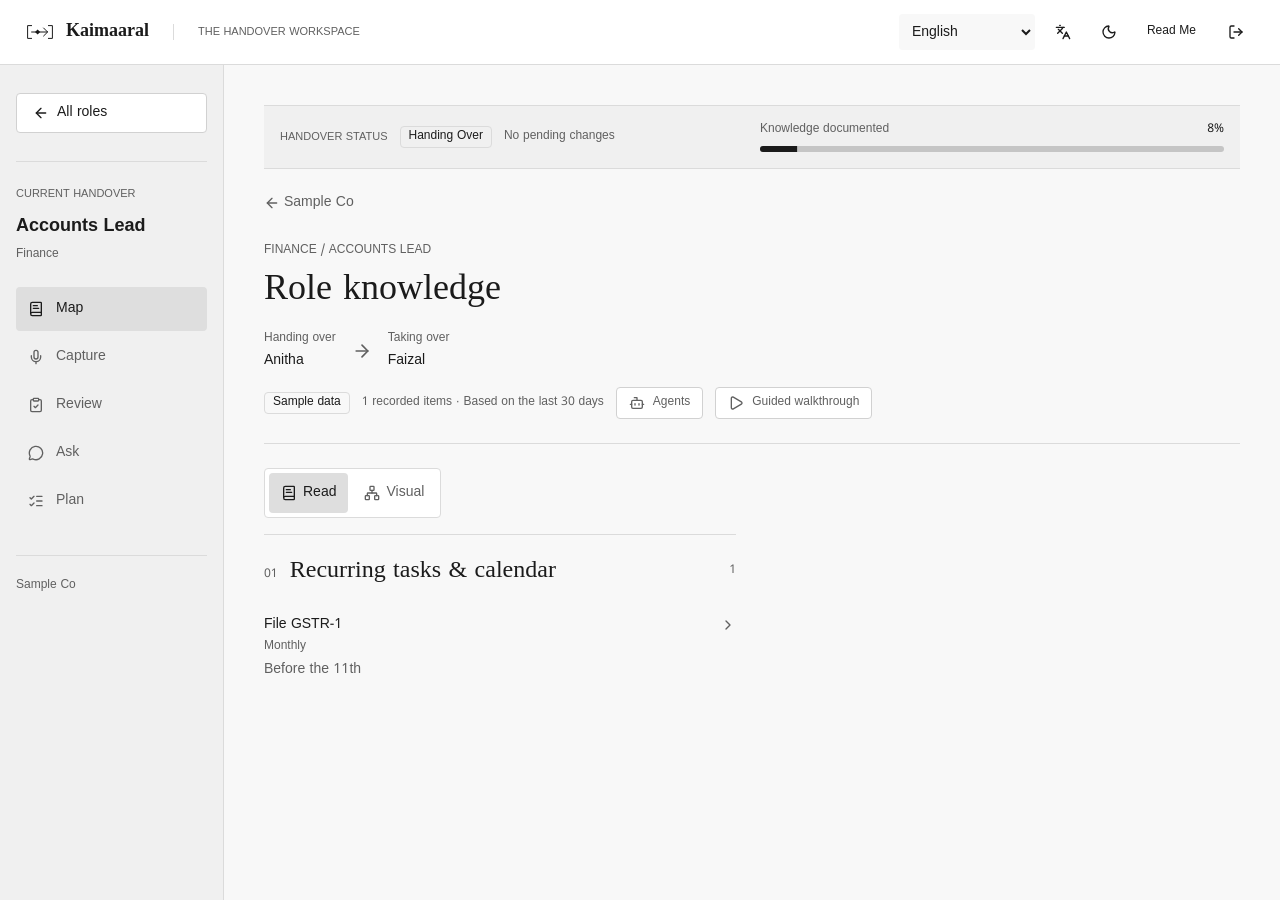
Test: Role page tabs › walkthrough supports previous, skip, replay and Escape without retaining a step
The width and height of the screenshot is (1280, 900).
Step 1. Click the button "Guided walkthrough" → click(794, 403), box [715,387,872,419]
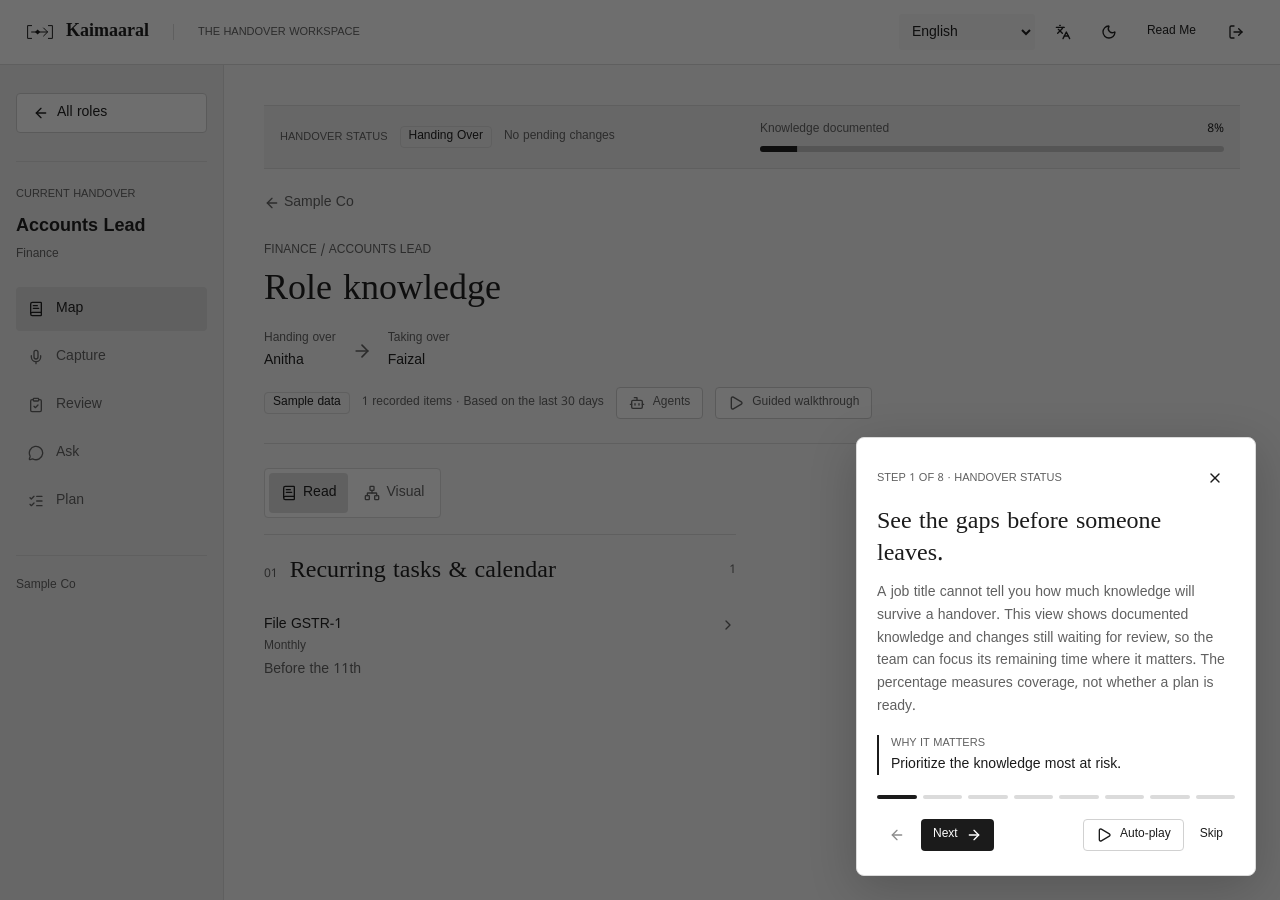
Check: the button named "Previous step" is disabled, box [877,815,917,855]
Step 2. Click the button "Next" → click(957, 835), box [921,819,994,851]
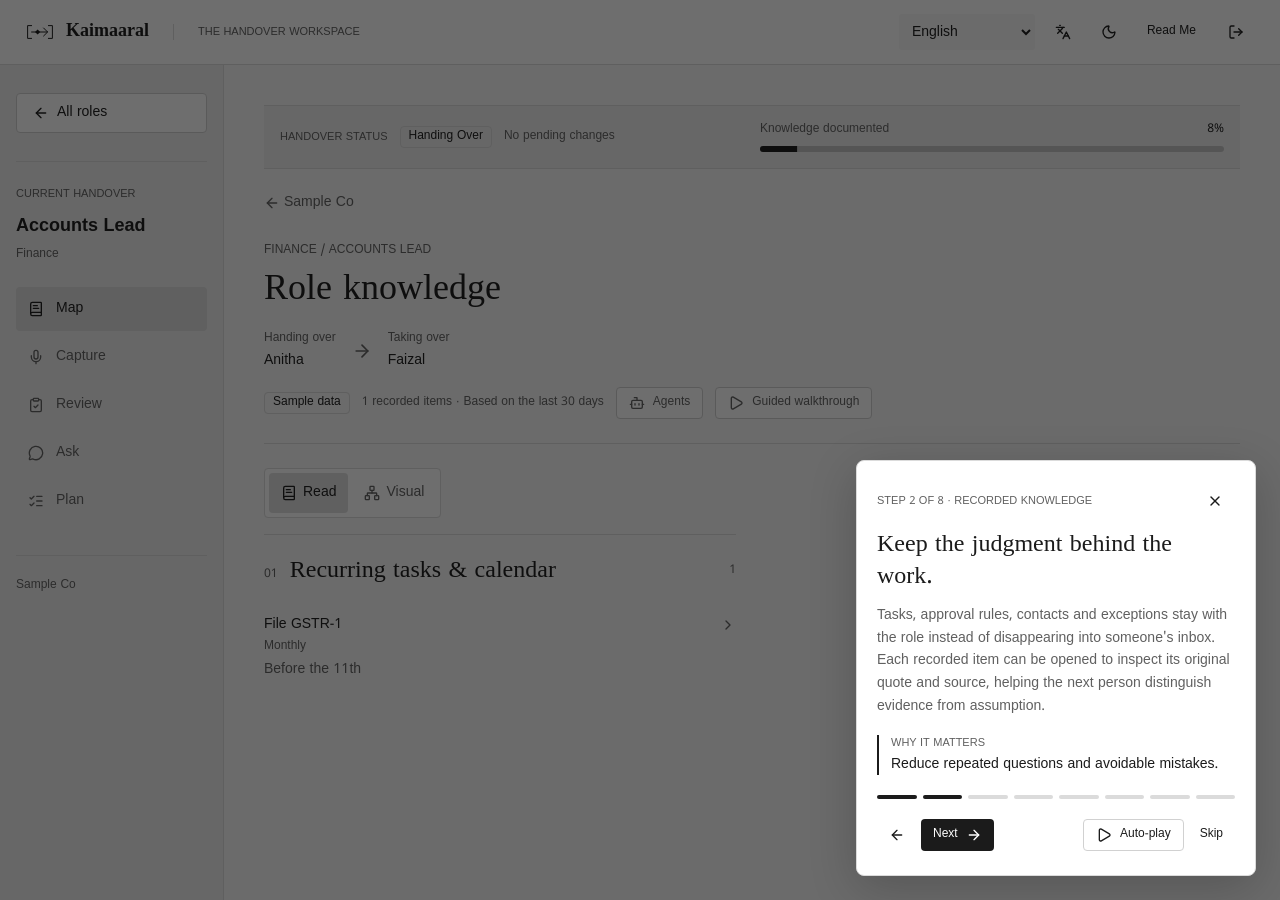
Step 3. Click the button named "Previous step" → click(897, 835), box [877,815,917,855]
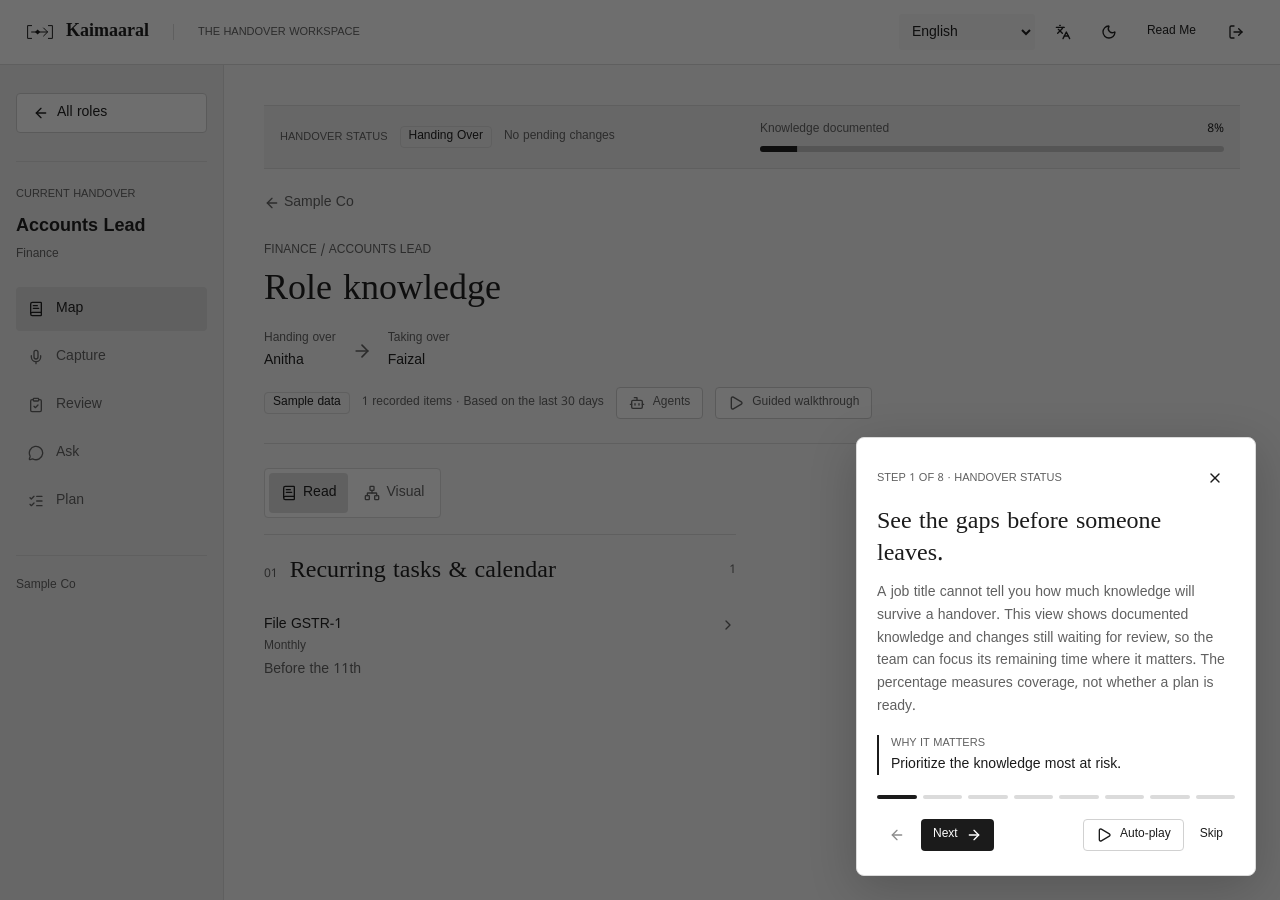
Check: the button named "Previous step" is disabled, box [877,815,917,855]
Step 4. Click the button "Skip" → click(1211, 835), box [1188,819,1235,851]
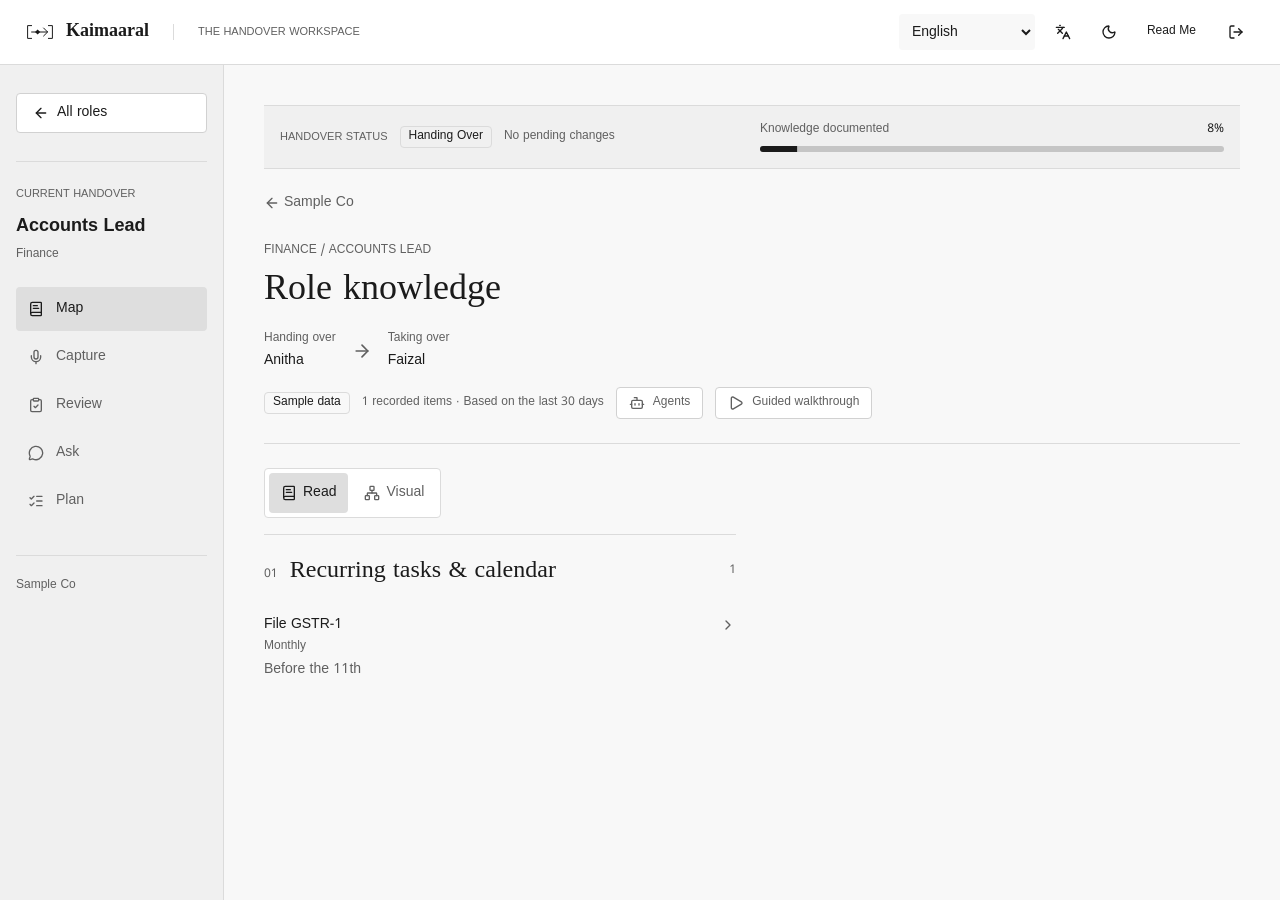
Check: the dialog is gone
Step 5. Click the button "Guided walkthrough" → click(794, 403), box [715,387,872,419]
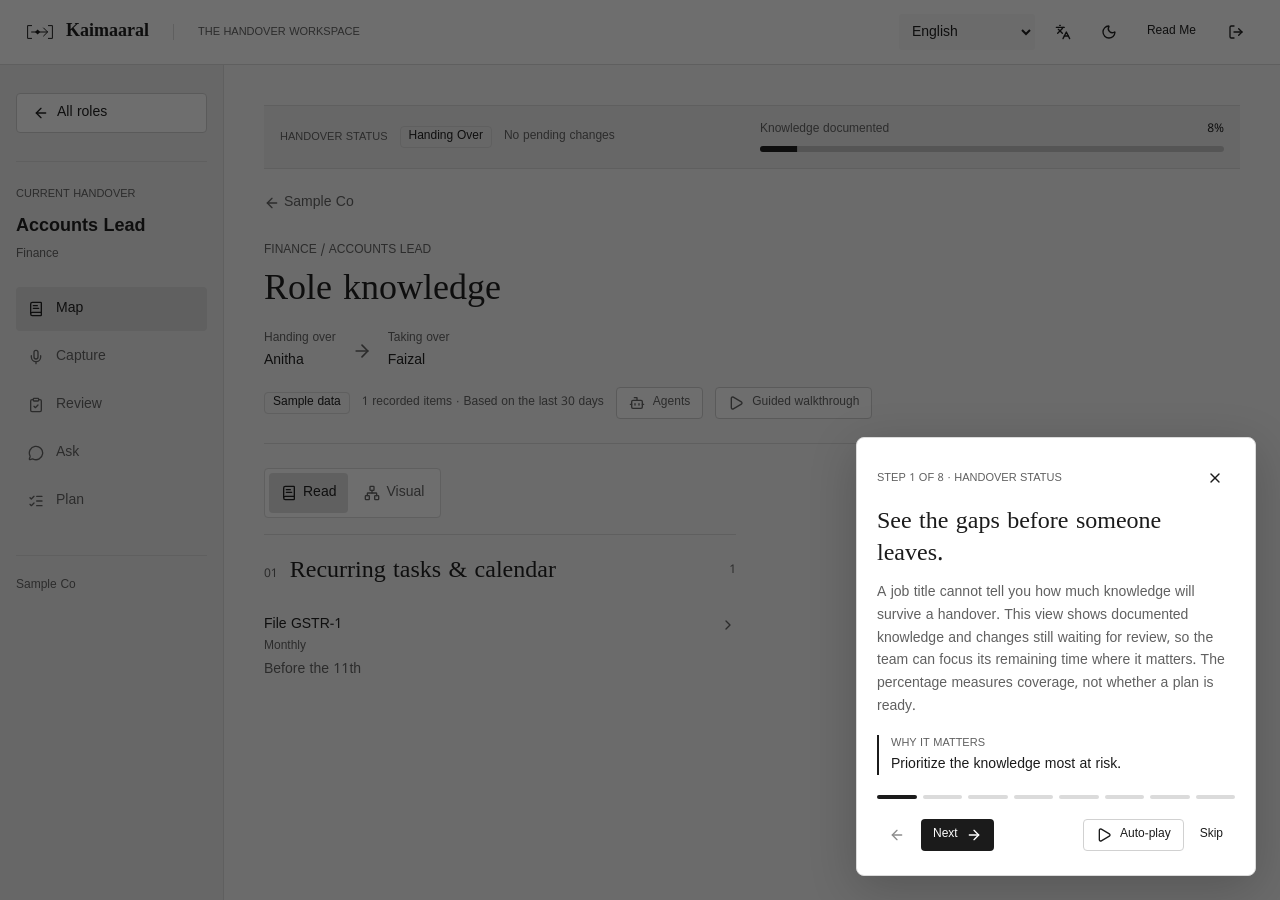
Check: the button named "Previous step" is disabled, box [877,815,917,855]
Step 6. Press Escape in the dialog, box [856,437,1256,876]
(page scrolled)
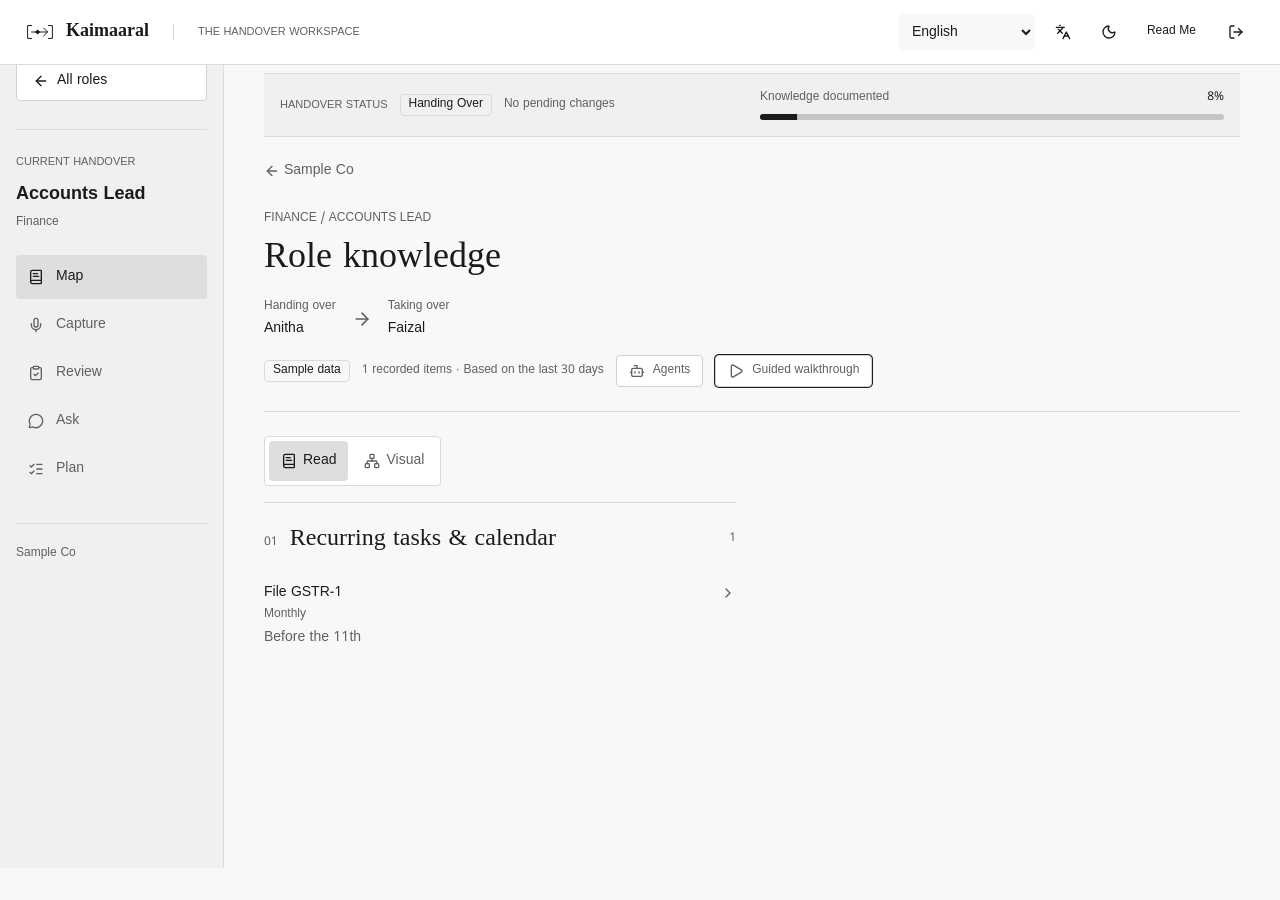
Check: the dialog is gone
